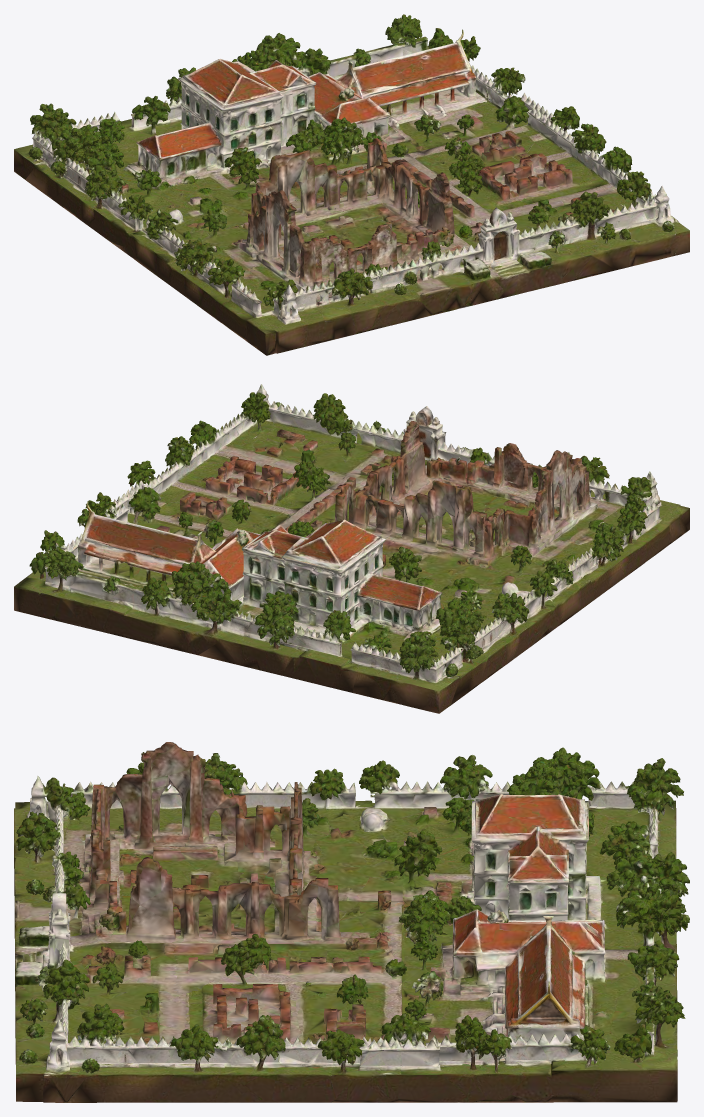
Rendered from narai-palace.ar.glb.
3 views of the same model, one above another, from view 1: azimuth 30°, elevation 25°; view 2: azimuth 150°, elevation 25°; view 3: azimuth 270°, elevation 25° (orthographic). The views are drawn at different scales.
Bounding box in the file's own units: 0.3989 × 0.0911 × 0.4.
1 material, 1 textured.
